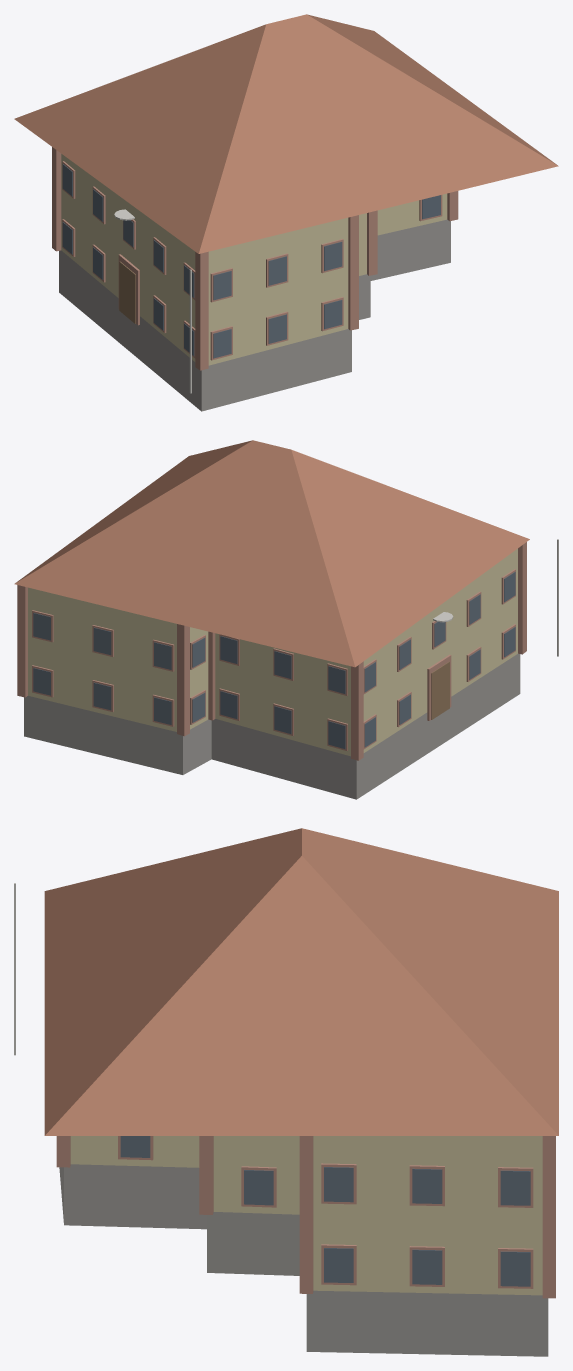
File: landmark-townhall-rathaus-sitzenkirch.glb
The picture shows the model from 3 angles, top to bottom: view 1: azimuth 30°, elevation 25°; view 2: azimuth 150°, elevation 25°; view 3: azimuth 270°, elevation 25°; orthographic projection. The views are drawn at different scales.
Visible parts, largest first — view 1: building; view 2: building; view 3: building.
Part boxes in pixels (box(x1,y1,x2,y2)): building: box(14, 14, 558, 411); building: box(14, 440, 558, 799); building: box(14, 828, 558, 1356).
Bounding box in the file's own units: 22.55 × 16.2 × 20.15.
